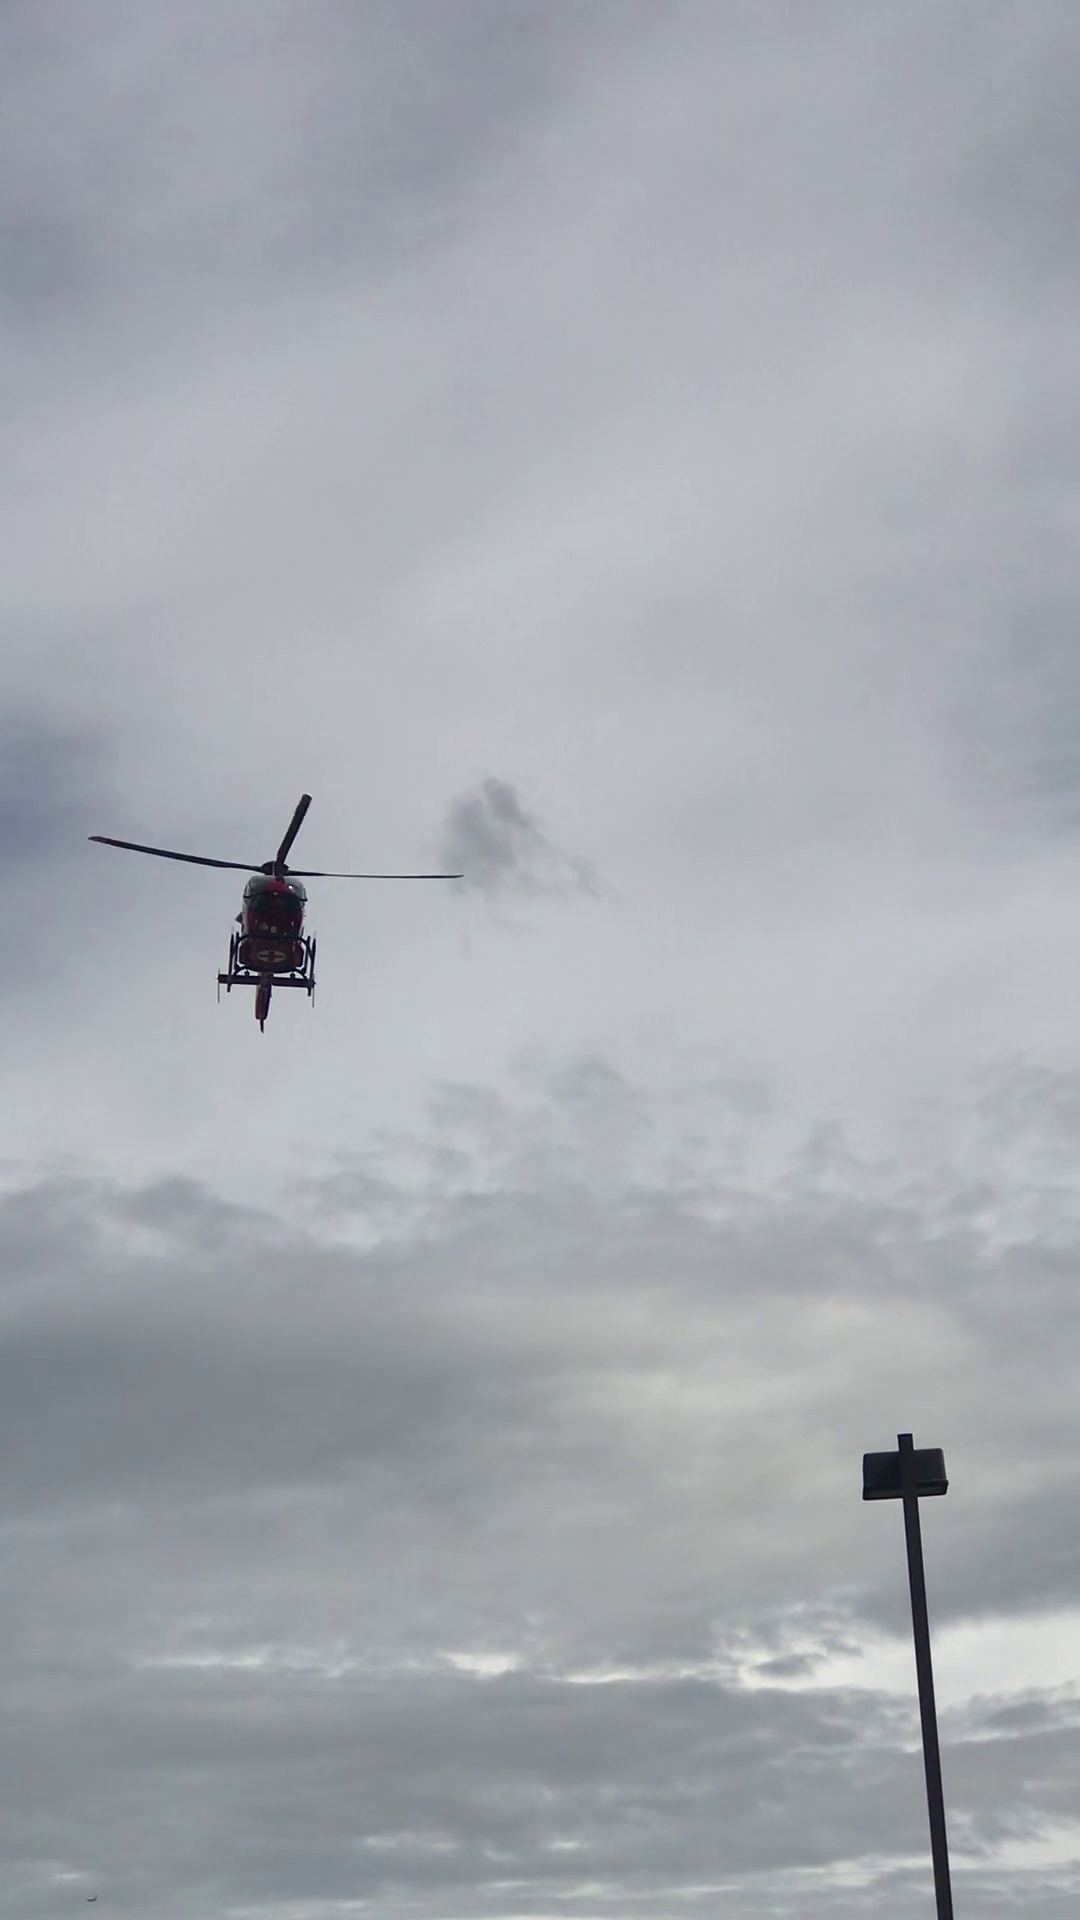heli: (88, 793, 463, 1030)
